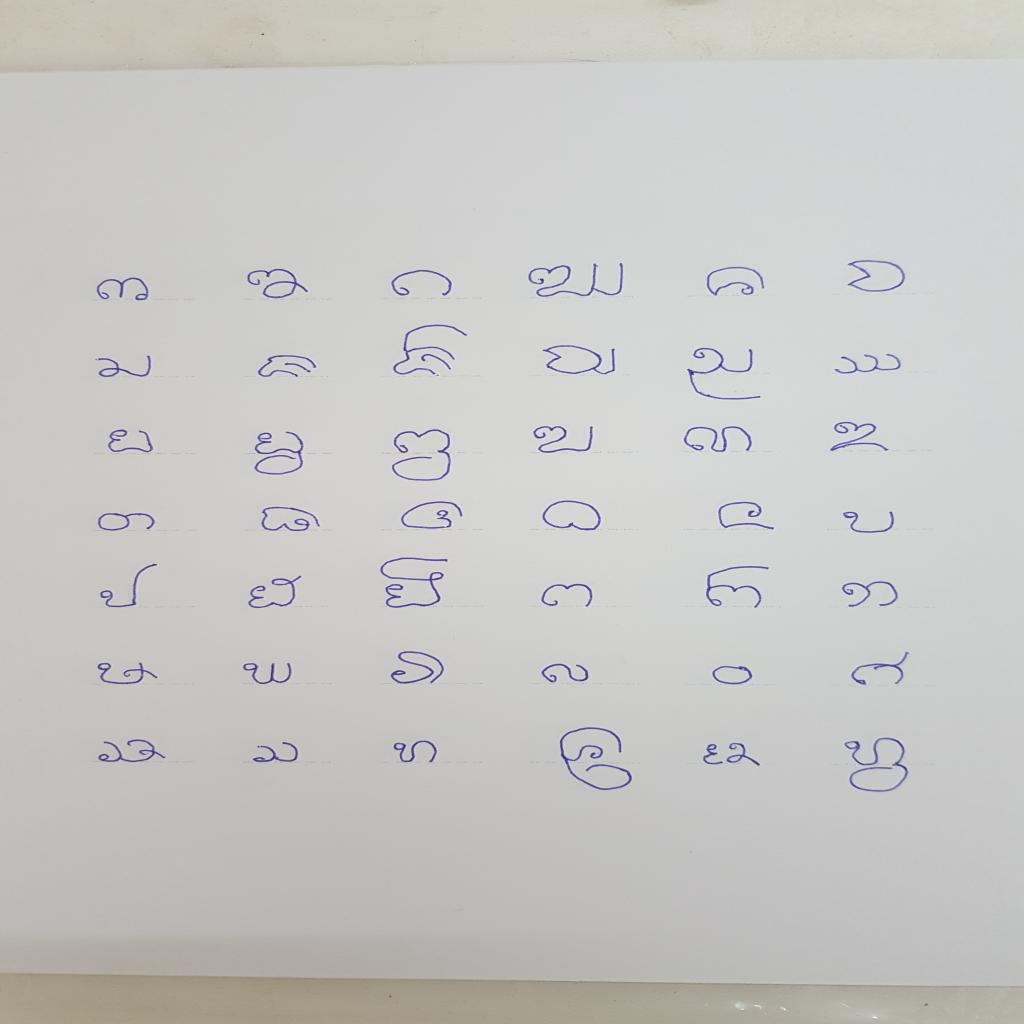LN001: (90, 275, 157, 305)
LN003: (385, 267, 458, 301)
LN004: (523, 261, 631, 302)
LN006: (841, 257, 911, 297)
LN007: (92, 353, 159, 382)
LN008: (253, 353, 324, 382)
LN009: (389, 322, 475, 379)
LN010: (538, 343, 623, 379)
LN011: (682, 345, 770, 405)
LN012: (830, 352, 907, 378)
LN013: (103, 427, 159, 457)
LN014: (251, 429, 311, 479)
LN015: (387, 426, 459, 486)
LN016: (528, 422, 602, 457)
LN017: (679, 424, 760, 457)
LN018: (825, 419, 897, 457)
LN019: (94, 510, 162, 535)
LN020: (256, 504, 328, 536)
LN023: (709, 498, 785, 535)
LN024: (836, 508, 903, 537)
LN025: (97, 560, 165, 612)
LN026: (247, 572, 312, 612)
LN027: (375, 556, 455, 612)
LN028: (536, 582, 600, 612)
LN029: (698, 563, 776, 613)
LN030: (836, 580, 904, 612)
LN031: (91, 660, 164, 690)
LN032: (239, 660, 299, 689)
LN033: (385, 648, 451, 690)
LN034: (539, 661, 596, 687)
LN035: (705, 663, 759, 688)
LN036: (845, 650, 915, 692)
LN037: (93, 737, 173, 768)
LN038: (246, 739, 305, 767)
LN039: (387, 739, 446, 768)
LN040: (551, 724, 640, 795)
LN041: (693, 740, 765, 772)
LN042: (835, 735, 915, 797)
